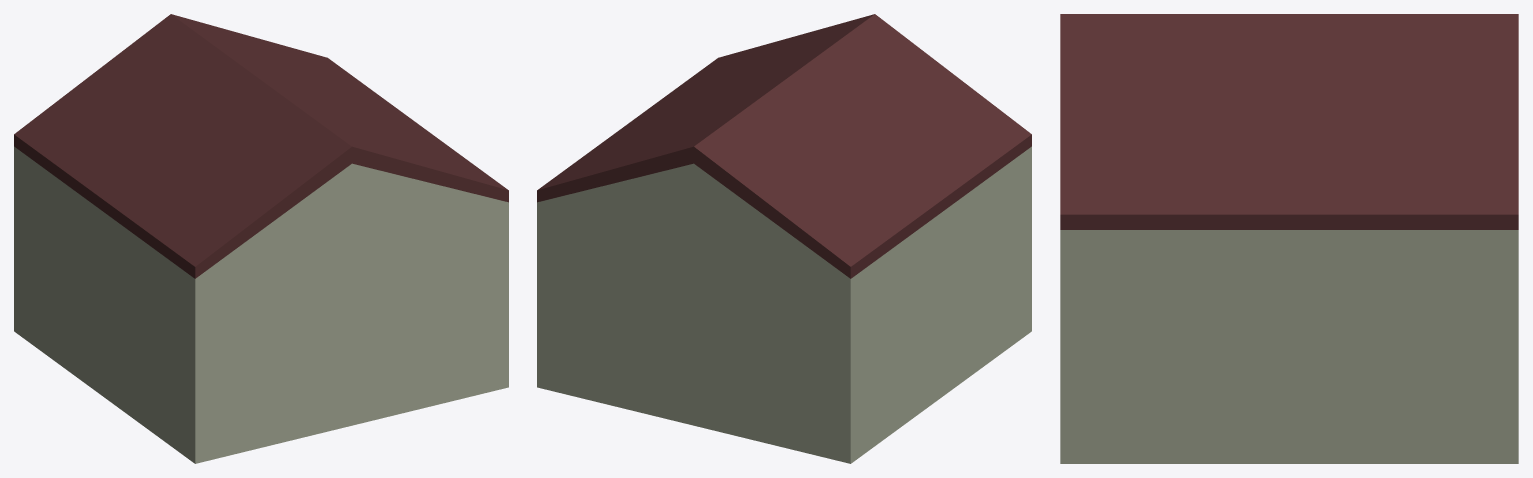
The model's file is house.glb.
3 views of the same model, side by side, from view 1: azimuth 30°, elevation 25°; view 2: azimuth 150°, elevation 25°; view 3: azimuth 270°, elevation 25° (orthographic). The views are drawn at different scales.
Visible parts, largest first — view 1: Cube; view 2: Cube; view 3: Cube.
Boxes of the visible parts, x1,y1,x2,y2 form: Cube: (14,14,508,463); Cube: (537,14,1031,463); Cube: (1060,14,1518,463).
Bounding box in the file's own units: 10 × 8.5 × 10.
